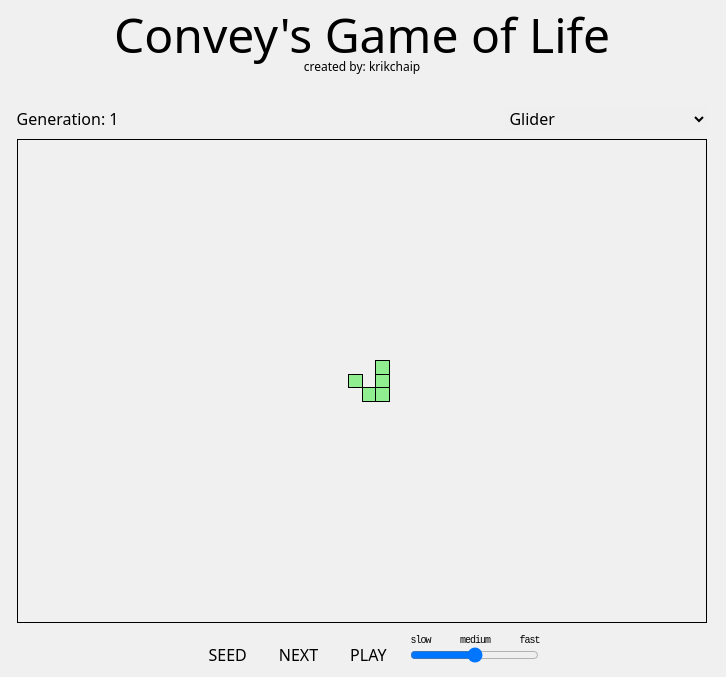
Test: game › pattern selection › reset generation everytime when changing pattern
The width and height of the screenshot is (726, 677).
Expected: the text "Generation: 1" is shown, top-left (17, 107), bottom-right (118, 131)
Select "Glider" in the dropdown named "select-pattern" at (606, 119), box top-left (505, 107), bottom-right (707, 131)
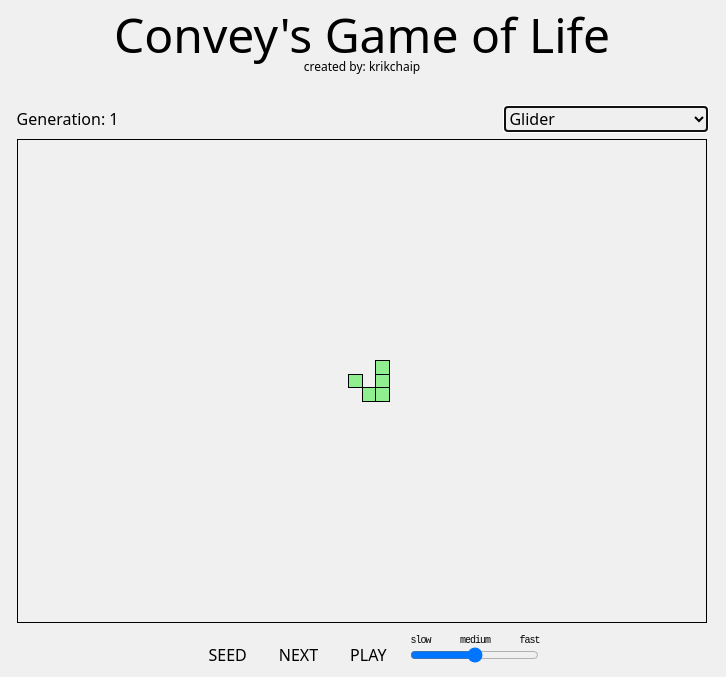
Click the button "next" at (298, 655), box top-left (271, 639), bottom-right (326, 671)
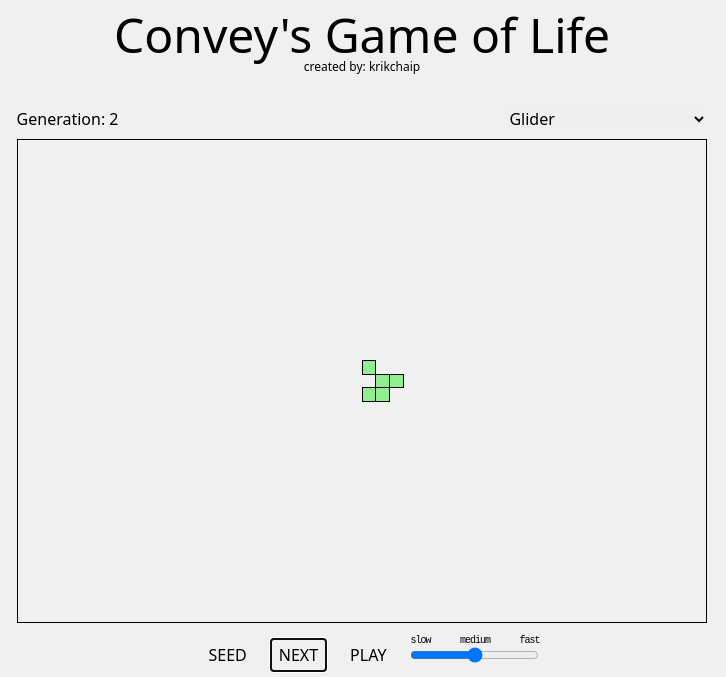
Click the button "next" at (298, 655), box top-left (271, 639), bottom-right (326, 671)
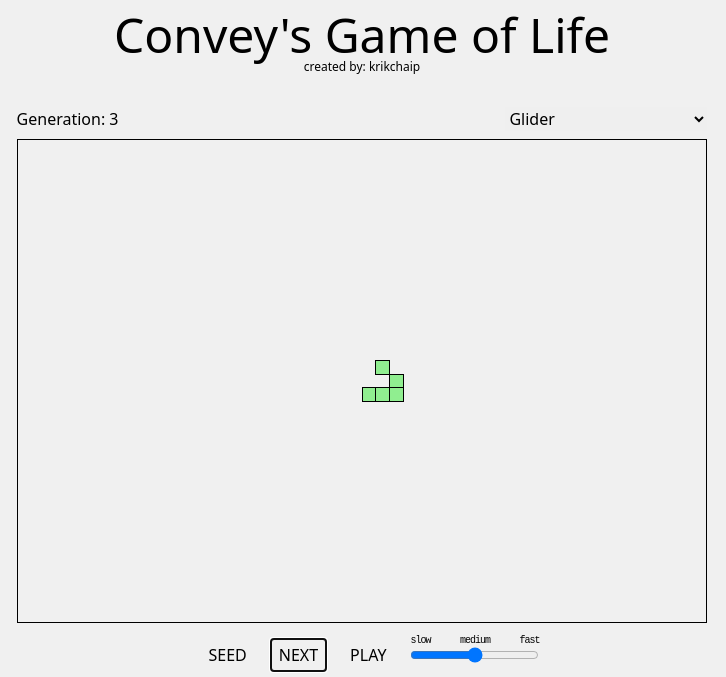
Select "Beacon" in the dropdown named "select-pattern" at (606, 119), box top-left (505, 107), bottom-right (707, 131)
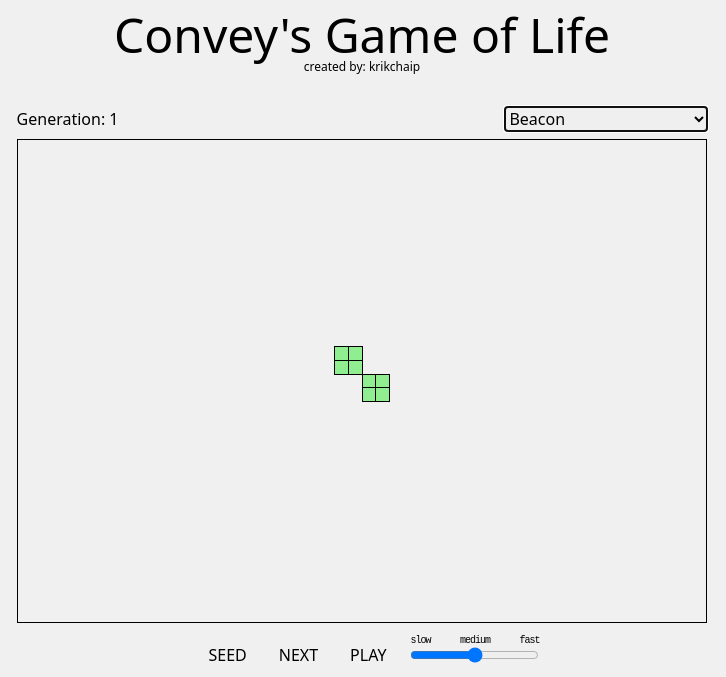
Now the text "Generation: 1" is shown, box top-left (17, 107), bottom-right (118, 131)
